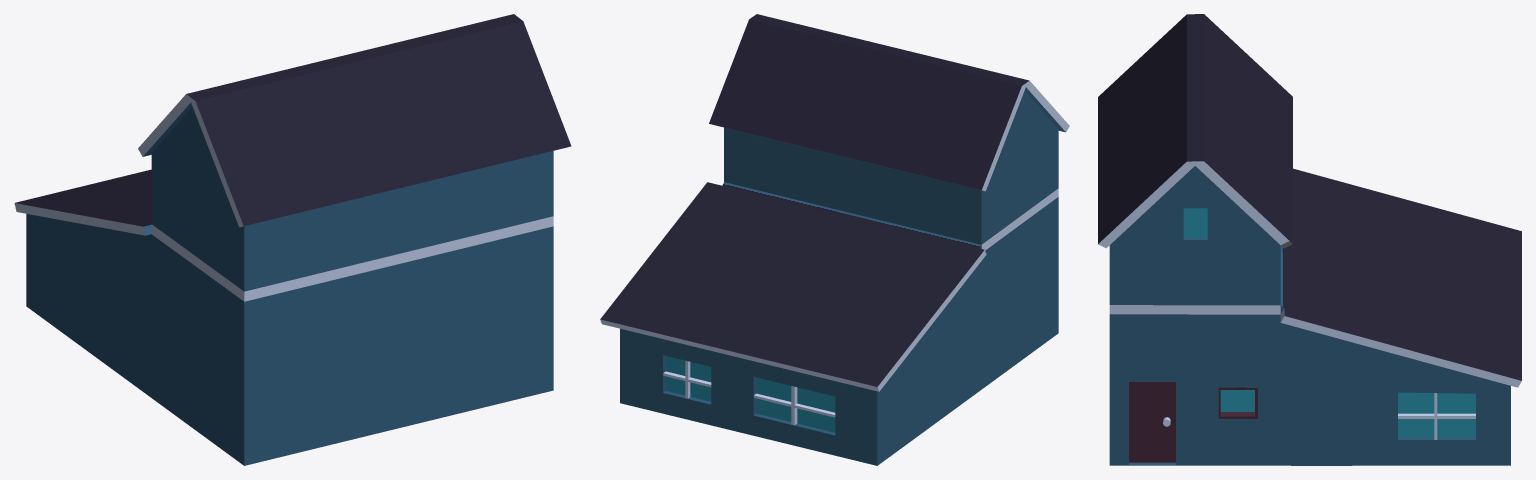
File: house1.fbx
3 renders of one model, left to right at view 1: azimuth 30°, elevation 25°; view 2: azimuth 150°, elevation 25°; view 3: azimuth 270°, elevation 25°, orthographic. The views are drawn at different scales.
Parts seen in each view (by area): view 1: Cube.004; view 2: Cube.004; view 3: Cube.004.
Part boxes in pixels (x1=…): Cube.004: x1=14, y1=14, x2=571, y2=465; Cube.004: x1=600, y1=14, x2=1069, y2=465; Cube.004: x1=1098, y1=14, x2=1521, y2=465.
Bounding box in the file's own units: 2131 × 2052 × 2543.
